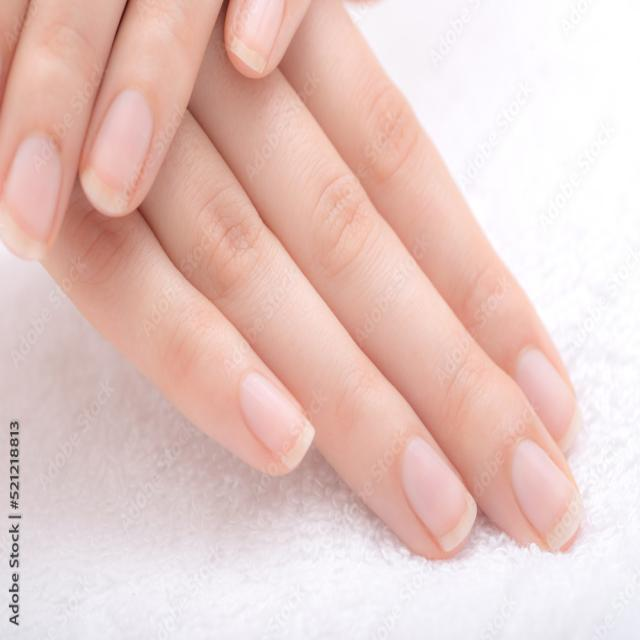Fingernail: (82, 91, 155, 216), (402, 440, 479, 554), (511, 441, 587, 545), (4, 134, 61, 267), (517, 347, 585, 456), (241, 374, 314, 473)
